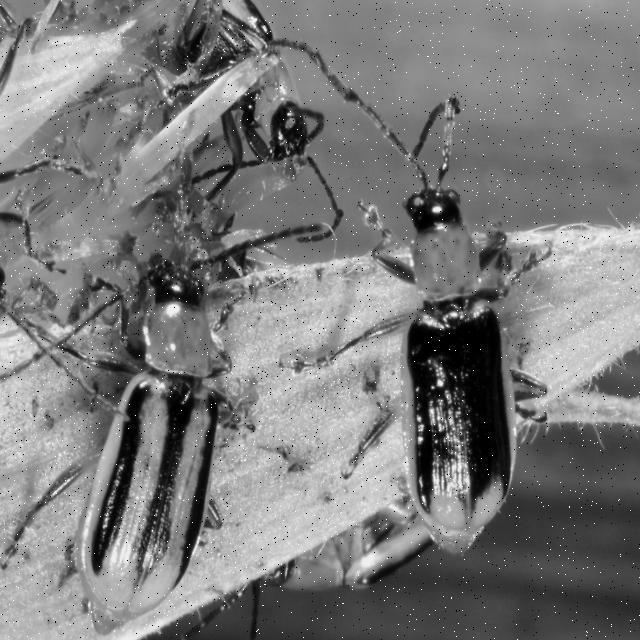trips: (353, 94, 553, 598), (46, 262, 248, 608), (100, 0, 337, 177), (0, 0, 39, 371)
